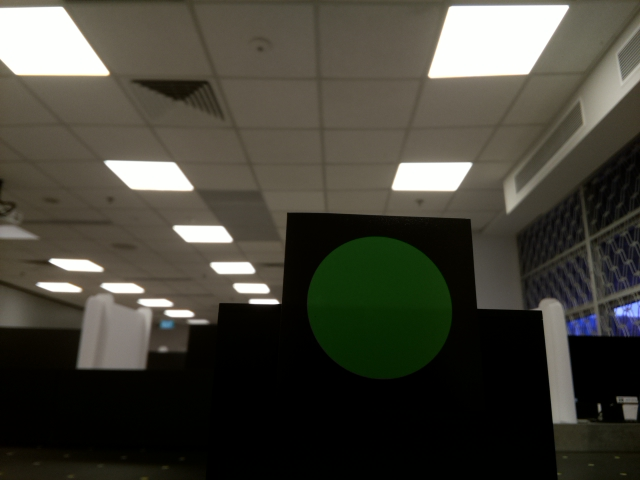go: (296, 235, 462, 383)
